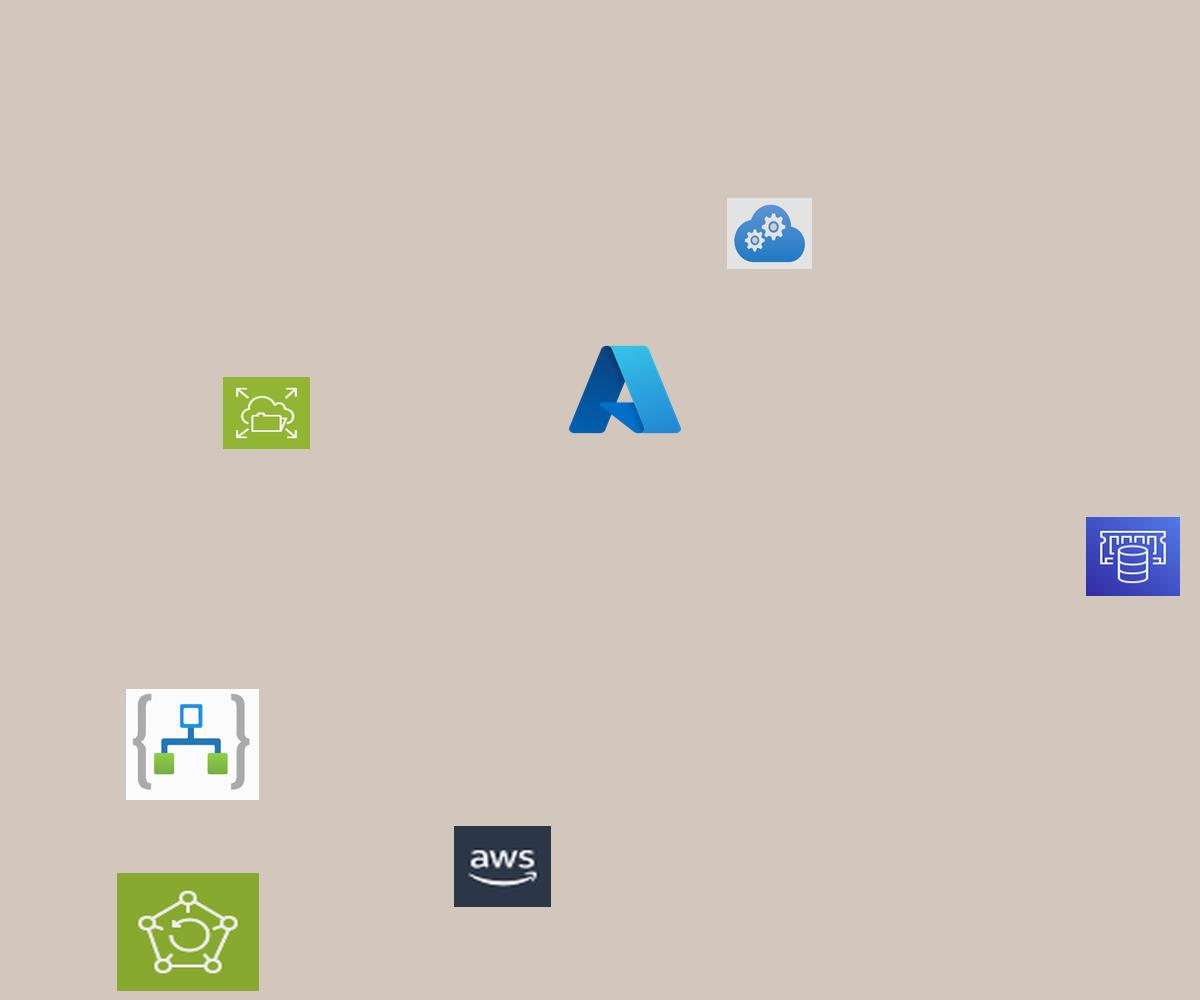AWS-Backup: (117, 873, 259, 991)
AWS-Cloud-logo: (454, 826, 551, 907)
AWS-EFS: (223, 377, 310, 449)
AWS-ElastiCache: (1086, 517, 1180, 596)
Azure_cloud_services: (727, 198, 812, 269)
Azure_integration-204-Logic-Apps: (126, 689, 259, 800)
Azure_services: (564, 339, 686, 440)
